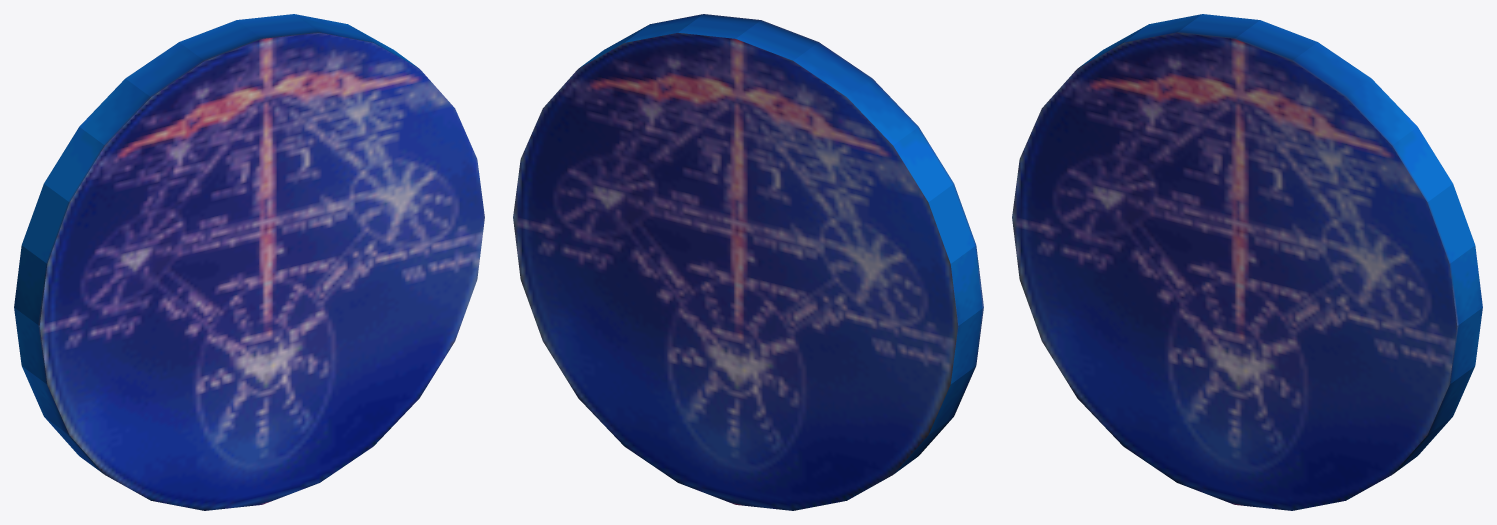
File: EV3.ico.obj
3 renders of one model, left to right at view 1: azimuth 30°, elevation 25°; view 2: azimuth 150°, elevation 25°; view 3: azimuth 330°, elevation 25°, orthographic.
Size of the model in its own units: 3 by 3 by 0.2998.
1 material, 1 textured.
